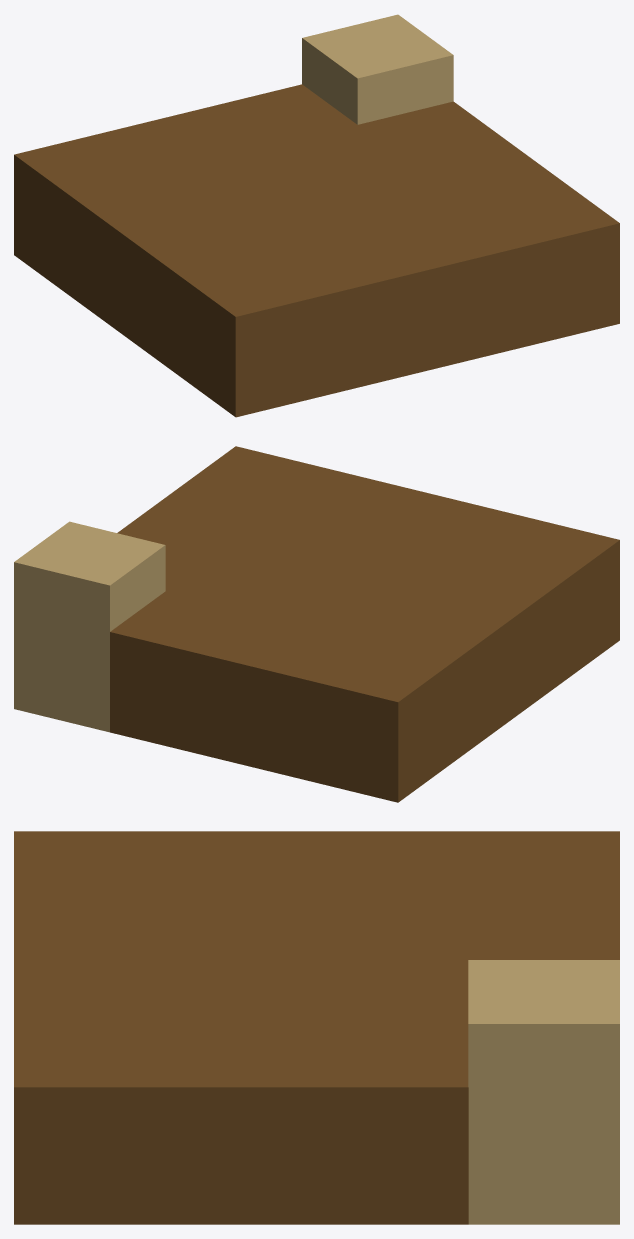
Rendered from planter-box_corner_Inside.fbx.
3 views of the same model, one above another, from view 1: azimuth 30°, elevation 25°; view 2: azimuth 150°, elevation 25°; view 3: azimuth 270°, elevation 25° (orthographic). The views are drawn at different scales.
Parts seen in each view (by area): view 1: pCube2; view 2: pCube2; view 3: pCube2.
Part boxes in pixels (<box>): pCube2: <box>14,14,619,417</box>; pCube2: <box>14,446,619,802</box>; pCube2: <box>14,831,619,1224</box>.
Bounding box in the file's own units: 200 × 73.08 × 200.
